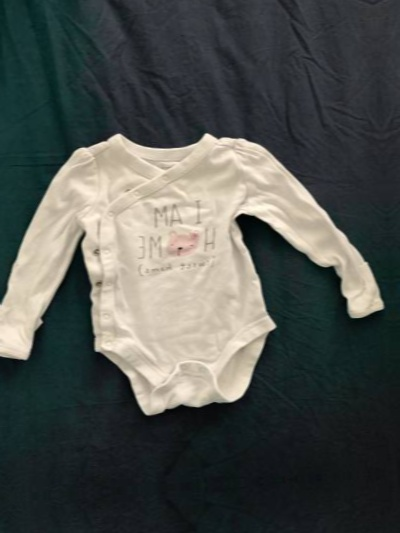Body: (0, 105, 399, 435), (382, 78, 400, 409)
